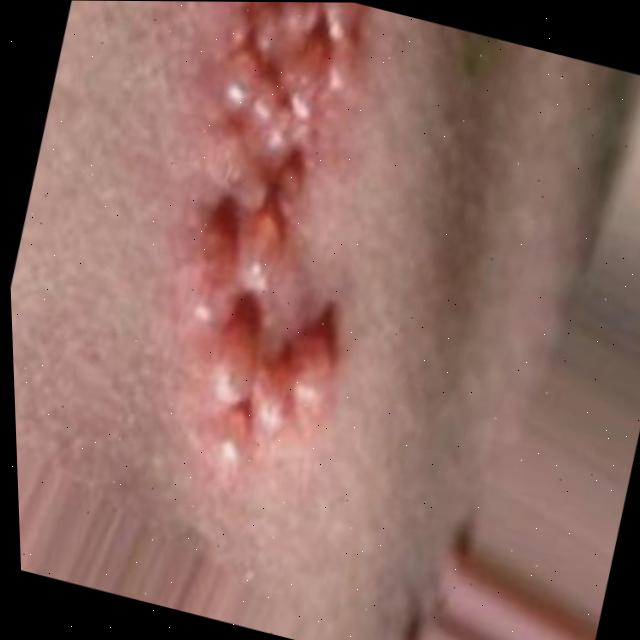Shingles: (125, 1, 418, 487)
